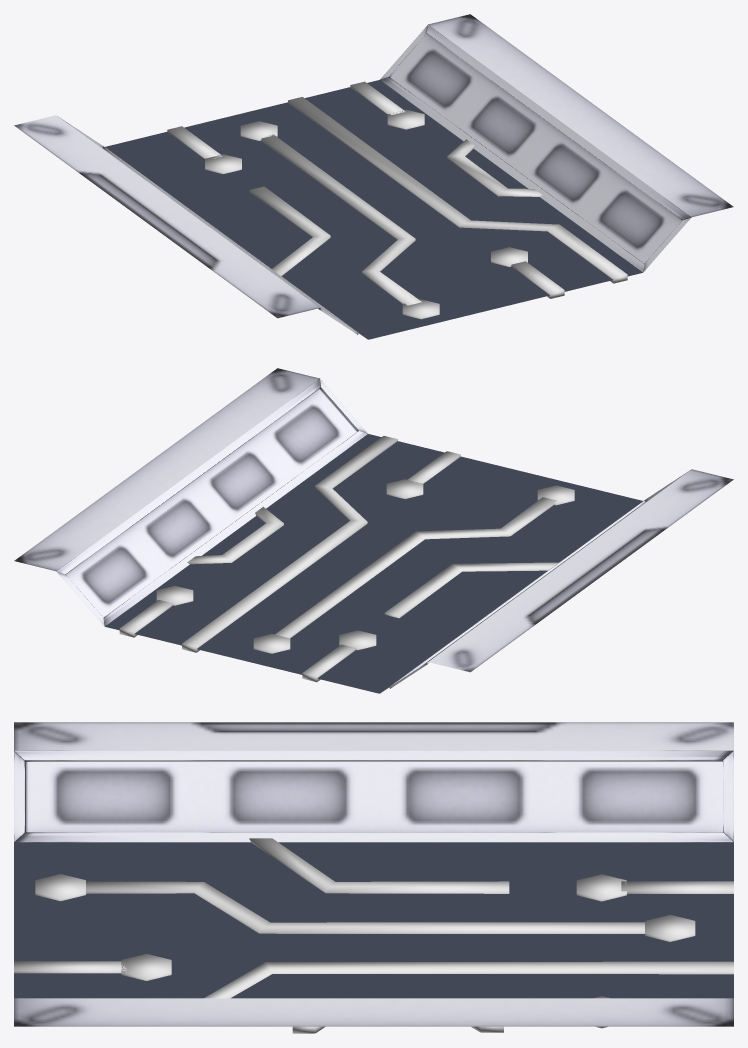
Rendered from Duz Yol.fbx.
The picture shows the model from 3 angles, top to bottom: view 1: azimuth 30°, elevation 25°; view 2: azimuth 150°, elevation 25°; view 3: azimuth 270°, elevation 25°; orthographic projection. The views are drawn at different scales.
Parts seen in each view (by area): view 1: duzyol; view 2: duzyol; view 3: duzyol.
Part boxes in pixels (box(x1,y1,x2,y2)): duzyol: box(14, 14, 733, 339); duzyol: box(14, 368, 733, 693); duzyol: box(14, 722, 733, 1033).
Size of the model in its own units: 200 by 19.81 by 200.
